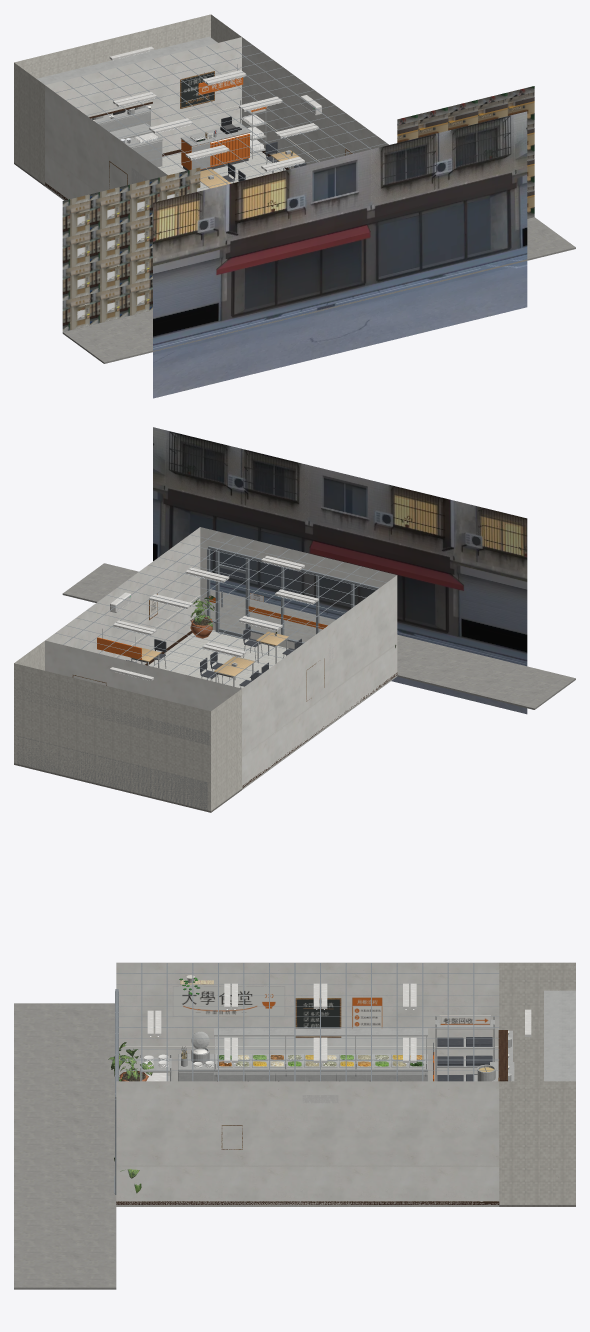
Rendered from l118_cafe2.glb.
The picture shows the model from 3 angles, top to bottom: view 1: azimuth 30°, elevation 25°; view 2: azimuth 150°, elevation 25°; view 3: azimuth 270°, elevation 25°; orthographic projection. The views are drawn at different scales.
Parts seen in each view (by area): view 1: WALL_S_view, WALL_W_nb_view, WALL_N_wall, WALL_N_kitchen_tile_w, WALL_E_wall, WALL_W_wall, l118_cafe2_paving, l118_cafe2_ceilgrid, WALL_E_nb_view, l118_cafe2_plastic_w, WALL_N_ksteel_cc0, l118_cafe2_steel (+7 smaller); view 2: WALL_S_view, WALL_N_kitchen_tile_w, l118_cafe2_paving, WALL_W_wall, WALL_E_wall, WALL_N_wall, WALL_S_glass, WALL_N_ksteel_cc0, WALL_W_wain, l118_cafe2_ceilgrid, l118_cafe2_floorm, WALL_S_wall (+8 smaller); view 3: WALL_E_wall, l118_cafe2_paving, WALL_W_wall, WALL_N_kitchen_tile_w, WALL_E_wain, l118_cafe2_steel, l118_cafe2_ceilgrid, WALL_W_iprint, l118_cafe2_sneezeguard, WALL_N_ksteel_cc0, WALL_W_wain, l118_cafe2_plastic_w (+9 smaller).
Part boxes in pixels (x1=…): WALL_S_view: x1=153, y1=111, x2=527, y2=398; WALL_W_nb_view: x1=62, y1=167, x2=200, y2=331; WALL_N_wall: x1=45, y1=37, x2=241, y2=126; WALL_N_kitchen_tile_w: x1=14, y1=14, x2=241, y2=184; WALL_E_wall: x1=242, y1=37, x2=388, y2=161; WALL_W_wall: x1=45, y1=85, x2=167, y2=192; l118_cafe2_paving: x1=62, y1=217, x2=575, y2=363; l118_cafe2_ceilgrid: x1=56, y1=41, x2=386, y2=188; WALL_E_nb_view: x1=397, y1=86, x2=534, y2=218; l118_cafe2_plastic_w: x1=113, y1=70, x2=318, y2=176; WALL_N_ksteel_cc0: x1=37, y1=36, x2=217, y2=139; l118_cafe2_steel: x1=92, y1=96, x2=290, y2=182; WALL_S_view: x1=153, y1=427, x2=527, y2=714; WALL_N_kitchen_tile_w: x1=14, y1=641, x2=241, y2=811; l118_cafe2_paving: x1=62, y1=563, x2=575, y2=709; WALL_W_wall: x1=242, y1=575, x2=397, y2=756; WALL_E_wall: x1=45, y1=527, x2=200, y2=657; WALL_N_wall: x1=45, y1=640, x2=241, y2=711; WALL_S_glass: x1=210, y1=550, x2=374, y2=641; WALL_N_ksteel_cc0: x1=17, y1=687, x2=209, y2=809; WALL_W_wain: x1=242, y1=645, x2=397, y2=787; l118_cafe2_ceilgrid: x1=55, y1=531, x2=386, y2=684; l118_cafe2_floorm: x1=149, y1=630, x2=397, y2=789; WALL_S_wall: x1=200, y1=527, x2=396, y2=597; WALL_E_wall: x1=116, y1=1081, x2=499, y2=1166; l118_cafe2_paving: x1=14, y1=1003, x2=116, y2=1289; WALL_W_wall: x1=116, y1=962, x2=499, y2=1046; WALL_N_kitchen_tile_w: x1=499, y1=962, x2=575, y2=1204; WALL_E_wain: x1=116, y1=1166, x2=499, y2=1204; l118_cafe2_steel: x1=139, y1=1016, x2=495, y2=1081; l118_cafe2_ceilgrid: x1=116, y1=963, x2=499, y2=1081; WALL_W_iprint: x1=173, y1=987, x2=382, y2=1028; l118_cafe2_sneezeguard: x1=216, y1=1037, x2=425, y2=1062; WALL_N_ksteel_cc0: x1=490, y1=990, x2=575, y2=1081; WALL_W_wain: x1=119, y1=1048, x2=498, y2=1081; l118_cafe2_plastic_w: x1=145, y1=983, x2=416, y2=1081.
Bounding box in the file's own units: 15.8 × 6.27 × 13.2.
Materials: 32 (28 with a texture image).
